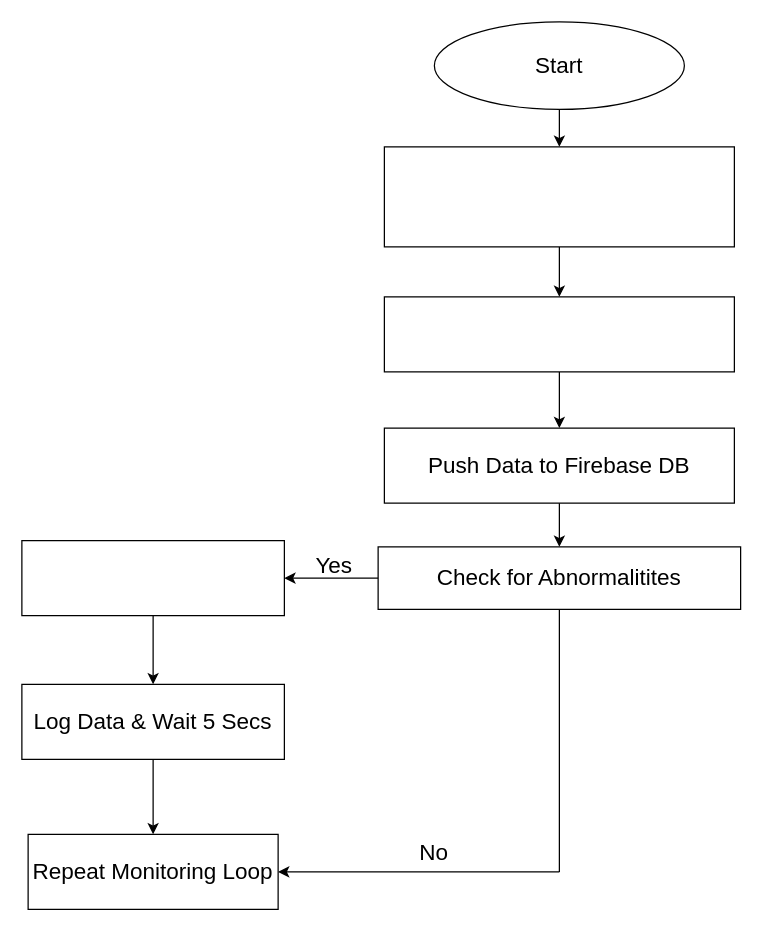
Some shapes in this 763 by 931 pixel diagram are drawn without their labels. The shapes that lost their labels are listed below. From the top down, each one's box as (x1, y1, x2, y2) in pixels, then its label:
(383, 146, 734, 247): Intitialize Sensors & Firebase Connection
(383, 296, 734, 372): Read Sensor Data
(21, 539, 284, 616): Send Push Notification
